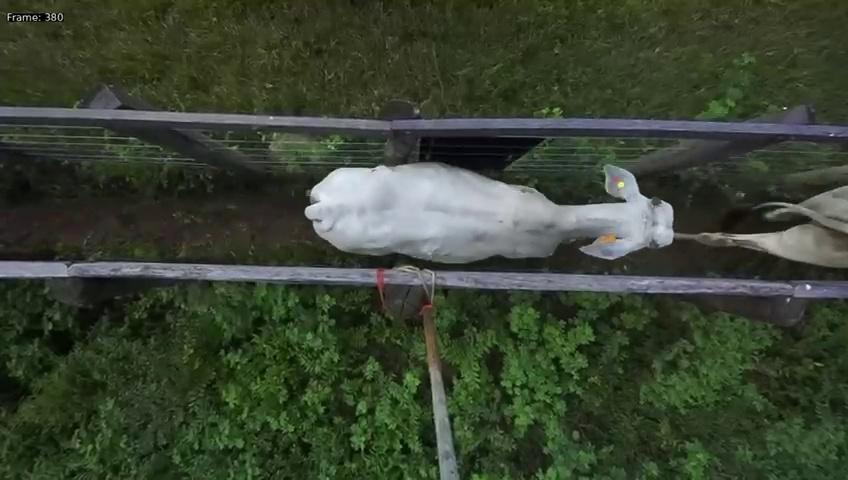cattle: (300, 155, 677, 264)
